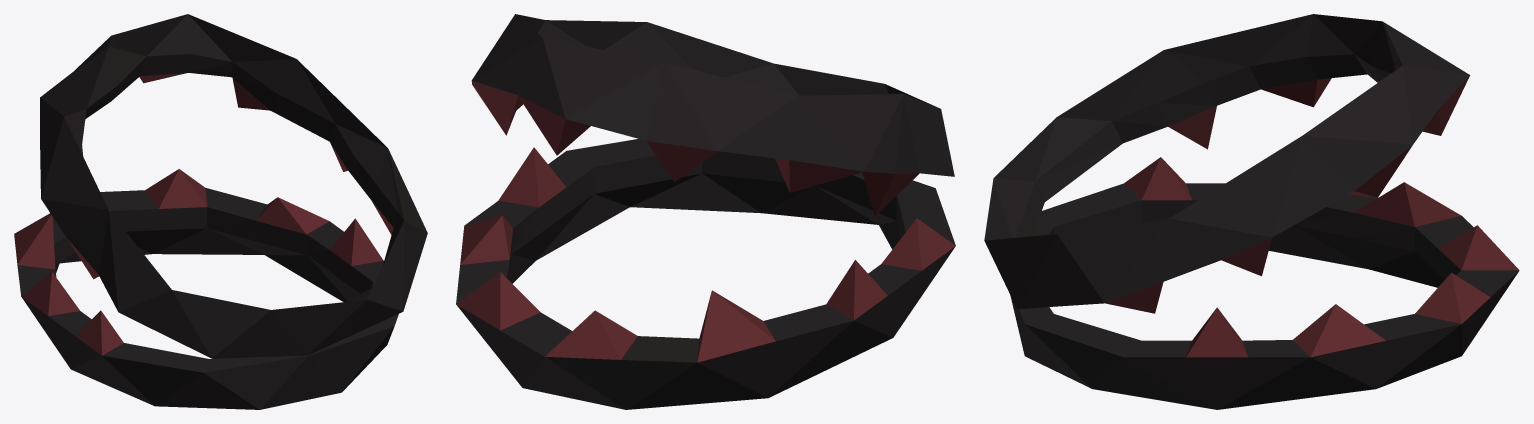
File: Kapkan.fbx
3 renders of one model, left to right at view 1: azimuth 30°, elevation 25°; view 2: azimuth 150°, elevation 25°; view 3: azimuth 270°, elevation 25°, orthographic. The views are drawn at different scales.
Visible parts, largest first — view 1: Kapkan_top, Kapkan_bot; view 2: Kapkan_bot, Kapkan_top; view 3: Kapkan_top, Kapkan_bot.
Boxes of the visible parts, box(x1,y1,x2,y2) form: Kapkan_top: box(40, 14, 427, 358); Kapkan_bot: box(14, 169, 398, 409); Kapkan_bot: box(456, 139, 955, 409); Kapkan_top: box(471, 14, 954, 216); Kapkan_top: box(984, 14, 1470, 313); Kapkan_bot: box(1010, 157, 1519, 409).
Bounding box in the file's own units: 140 × 177 × 108.
